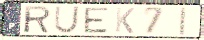7: (142, 6, 167, 36)
E: (83, 6, 110, 34)
I: (178, 7, 187, 37)
K: (114, 6, 136, 35)
R: (23, 5, 53, 34)
U: (53, 5, 82, 35)
